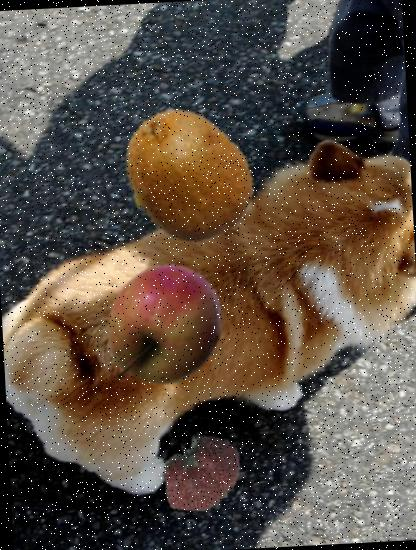Apple: (95, 258, 233, 396)
Kiwi: (115, 102, 264, 250)
Strawberry: (154, 428, 246, 520)
